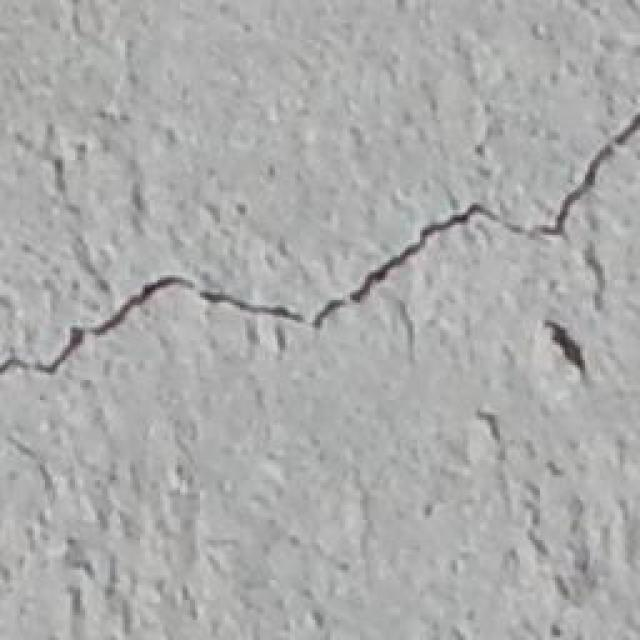concrete-crack: (0, 103, 639, 381)
